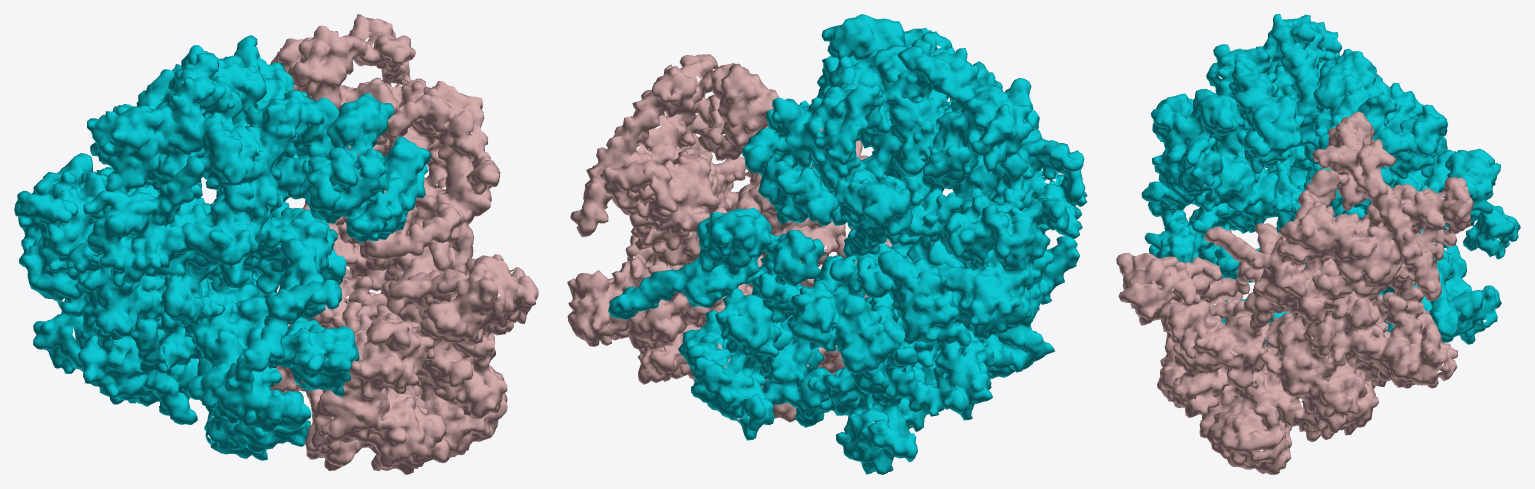
Rendered from ribos-prot.gltf.
3 renders of one model, left to right at view 1: azimuth 30°, elevation 25°; view 2: azimuth 150°, elevation 25°; view 3: azimuth 270°, elevation 25°, orthographic. The views are drawn at different scales.
Visible parts, largest first — view 1: vmd_mol0_rep3, vmd_mol0_rep1; view 2: vmd_mol0_rep3, vmd_mol0_rep1; view 3: vmd_mol0_rep1, vmd_mol0_rep3.
Part boxes in pixels (left/top/right/bottom): vmd_mol0_rep3: left=14, top=35, right=430, bottom=460; vmd_mol0_rep1: left=270, top=14, right=538, bottom=474; vmd_mol0_rep3: left=608, top=14, right=1087, bottom=474; vmd_mol0_rep1: left=567, top=54, right=910, bottom=422; vmd_mol0_rep1: left=1116, top=111, right=1473, bottom=474; vmd_mol0_rep3: left=1141, top=14, right=1520, bottom=346.
Size of the model in its own units: 2.54 by 2.29 by 2.3.
